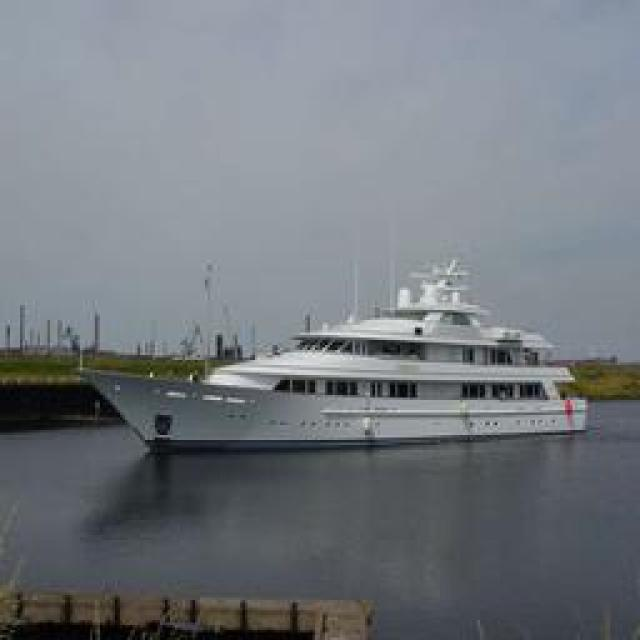CIV_Ship: (96, 252, 586, 448)
